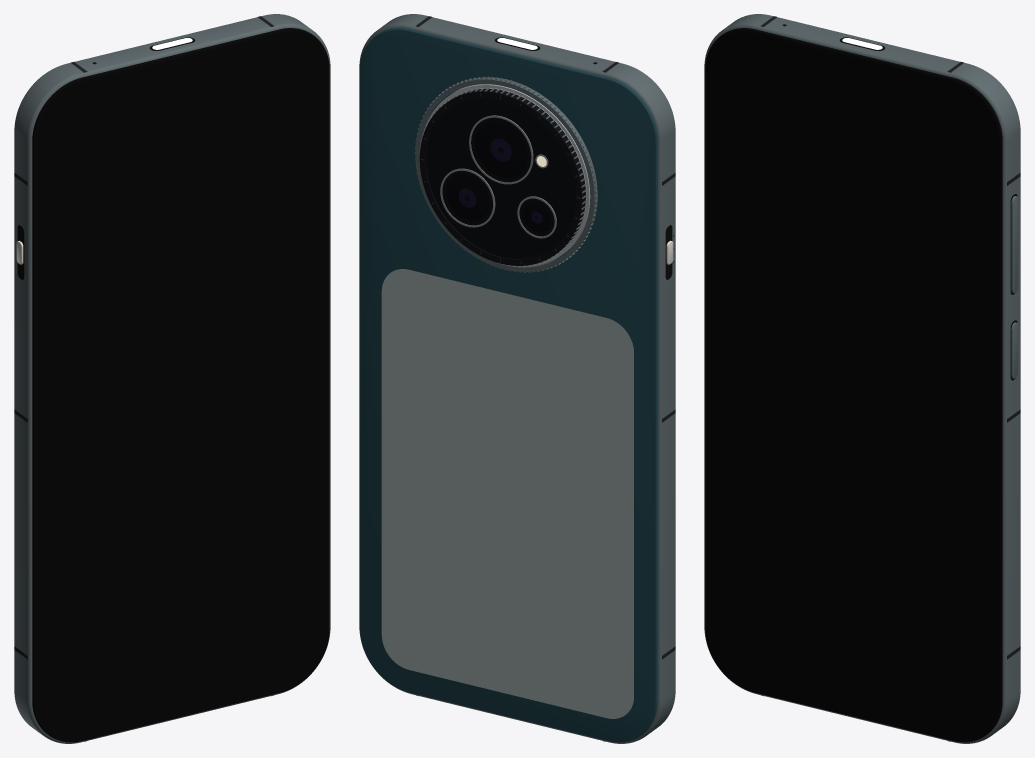
File: oy0x5pro.glb
3 renders of one model, left to right at view 1: azimuth 30°, elevation 25°; view 2: azimuth 150°, elevation 25°; view 3: azimuth 330°, elevation 25°, orthographic.
Parts seen in each view (by area): view 1: Screen, Frame, Glass; view 2: EInk, Body, Head, Frame, Bezel, Tube1; view 3: Screen, Frame, Glass, VolumeRocker.
Part boxes in pixels (bbox=[...]): Screen: bbox=[36, 32, 327, 739]; Frame: bbox=[14, 14, 330, 743]; Glass: bbox=[32, 28, 329, 742]; EInk: bbox=[381, 269, 633, 718]; Body: bbox=[360, 28, 657, 742]; Head: bbox=[419, 88, 586, 266]; Frame: bbox=[359, 14, 675, 743]; Bezel: bbox=[414, 76, 597, 272]; Tube1: bbox=[421, 84, 590, 266]; Screen: bbox=[707, 32, 998, 739]; Frame: bbox=[704, 14, 1020, 743]; Glass: bbox=[705, 28, 1002, 742]; VolumeRocker: bbox=[1011, 196, 1018, 293].
Size of the model in its own units: 0.0788 by 0.1645 by 0.0117.
